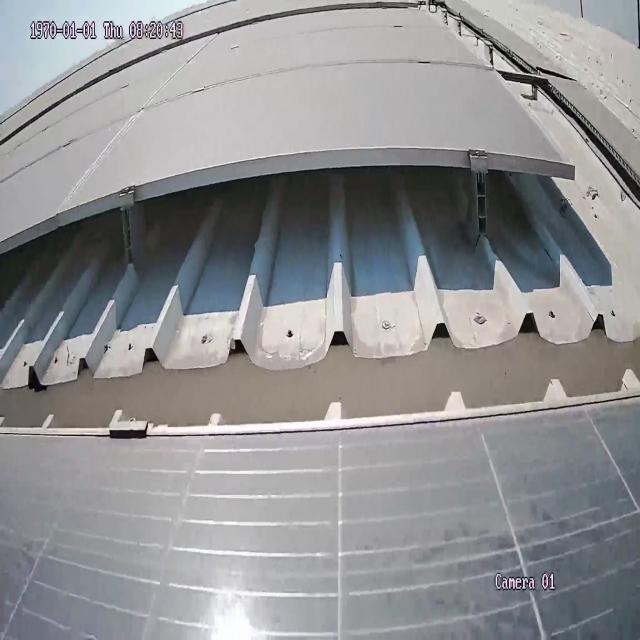interior panel: (59, 40, 211, 203)
outher panel: (5, 5, 640, 426)
